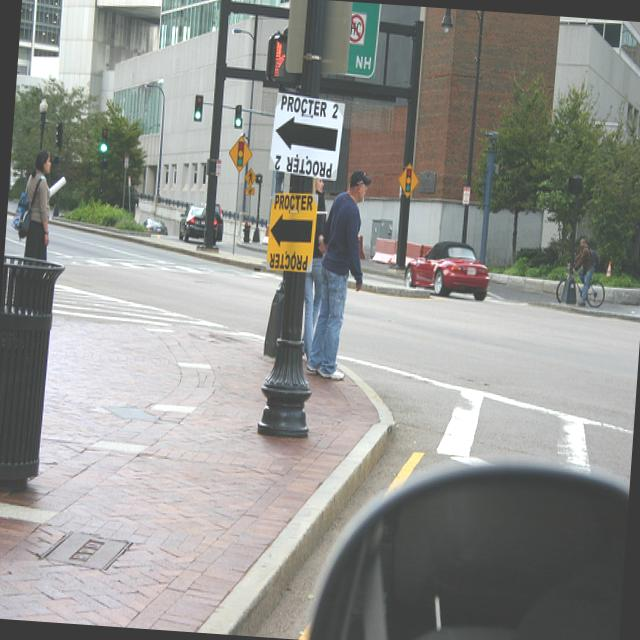Vehicle: (402, 236, 492, 302), (178, 205, 220, 244)
